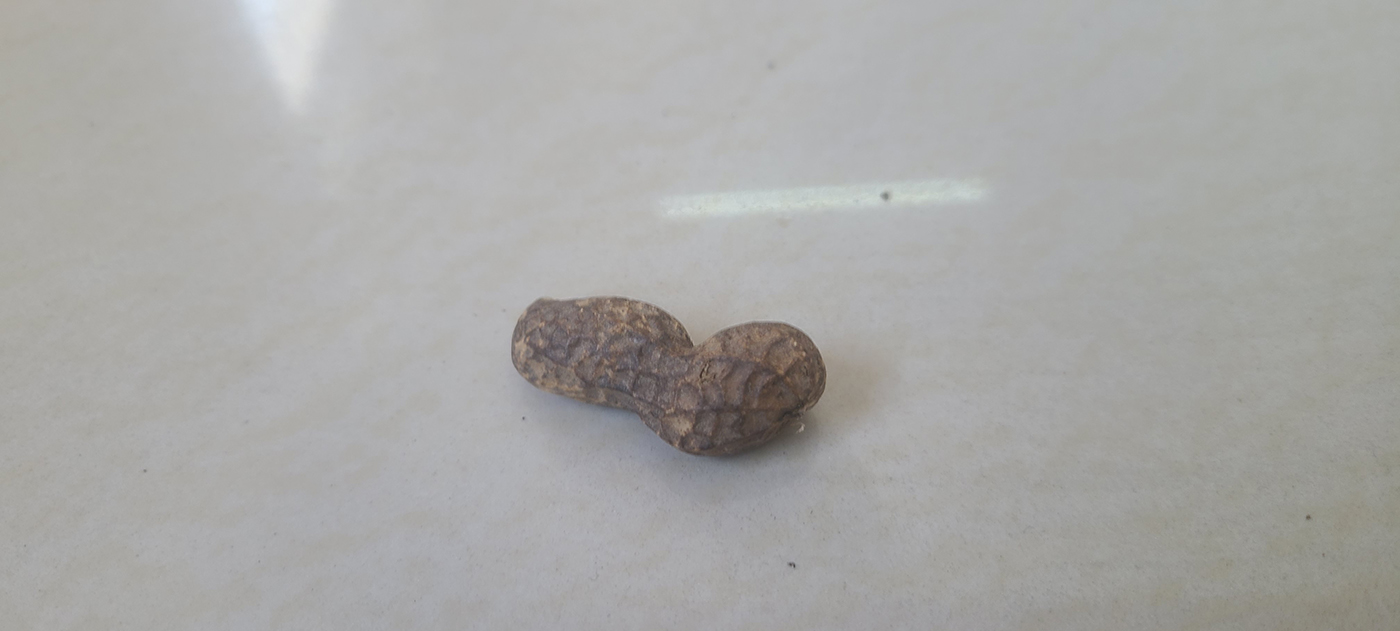l: (510, 292, 826, 458)
